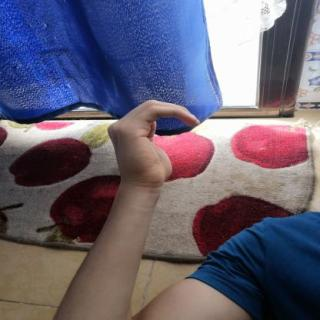HAA: (98, 92, 212, 195)
